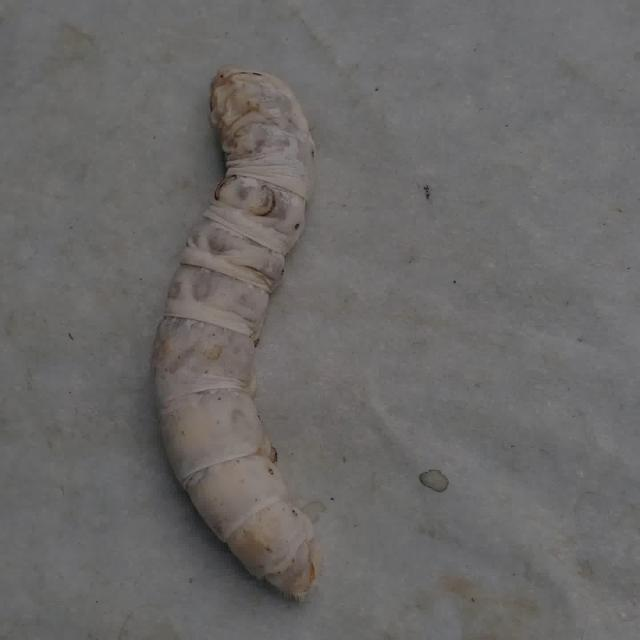Grasserie: (141, 30, 375, 618)
